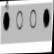correct: (41, 4, 52, 36)
no answer: (27, 5, 39, 37), (14, 5, 25, 37)
not correct: (1, 0, 10, 33)
